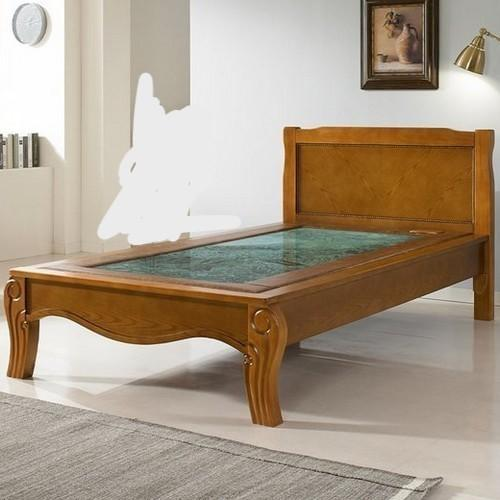Bed-Mattress: (10, 106, 500, 420)
